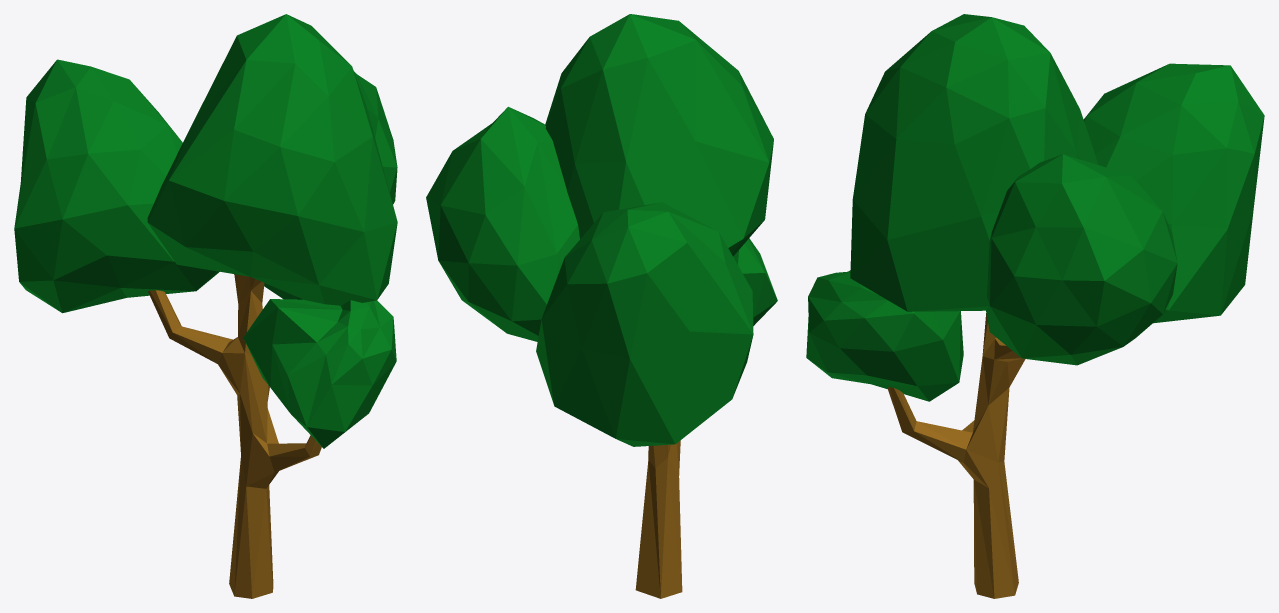
The model's file is tree7.glb.
3 views of the same model, side by side, from view 1: azimuth 30°, elevation 25°; view 2: azimuth 150°, elevation 25°; view 3: azimuth 270°, elevation 25° (orthographic). The views are drawn at different scales.
Visible parts, largest first — view 1: Icosphere.010; view 2: Icosphere.010; view 3: Icosphere.010.
Boxes of the visible parts, x1,y1,x2,y2 form: Icosphere.010: [14, 14, 397, 598]; Icosphere.010: [426, 14, 777, 598]; Icosphere.010: [806, 14, 1264, 598].
Bounding box in the file's own units: 14.12 × 22.02 × 15.53.
